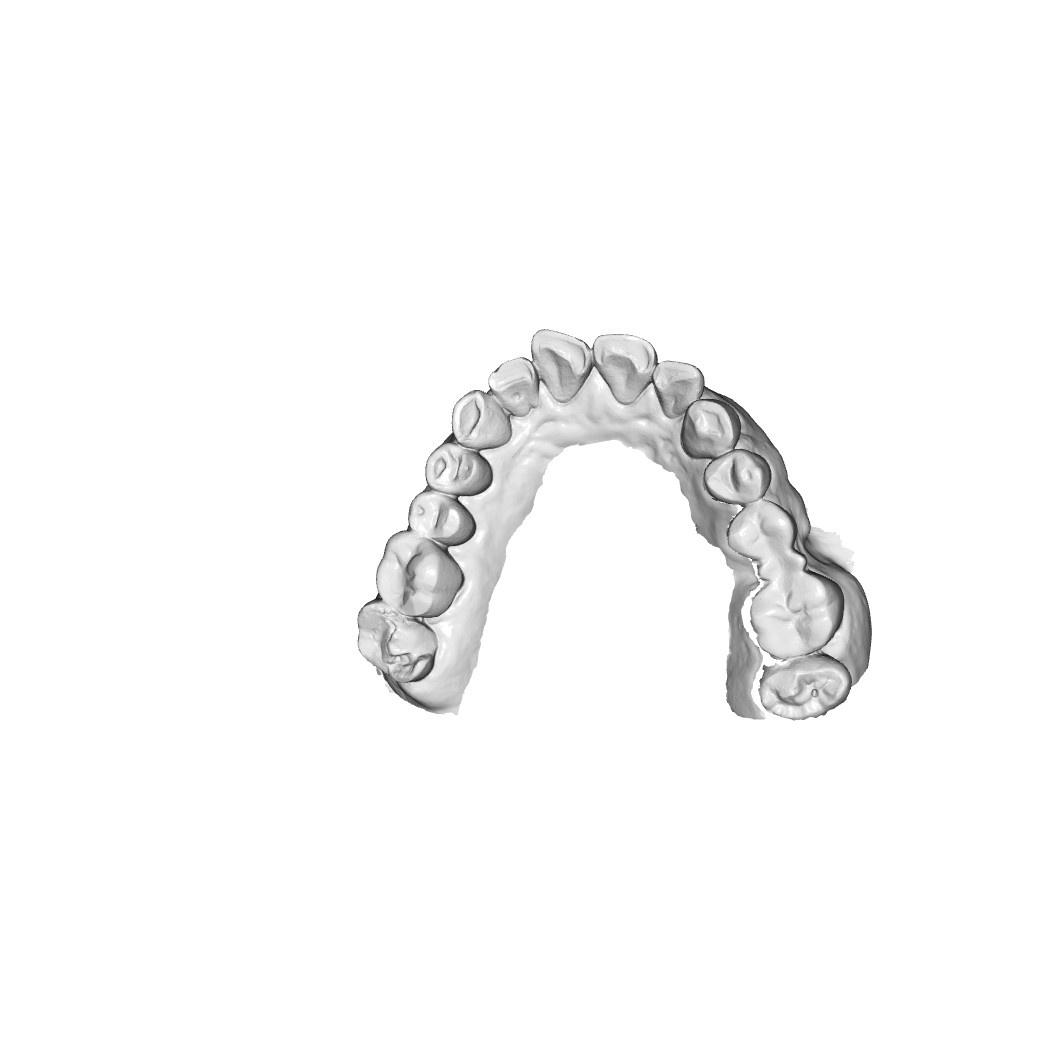canine: (678, 396, 742, 461), (449, 390, 511, 449)
incisor: (594, 329, 651, 407), (533, 330, 591, 404), (486, 354, 537, 415), (653, 359, 704, 419)
molar: (748, 572, 841, 660), (377, 533, 461, 619), (355, 602, 437, 683), (757, 657, 849, 724)
premolar: (720, 500, 798, 560), (418, 441, 496, 497), (404, 488, 476, 548), (700, 447, 771, 505)
